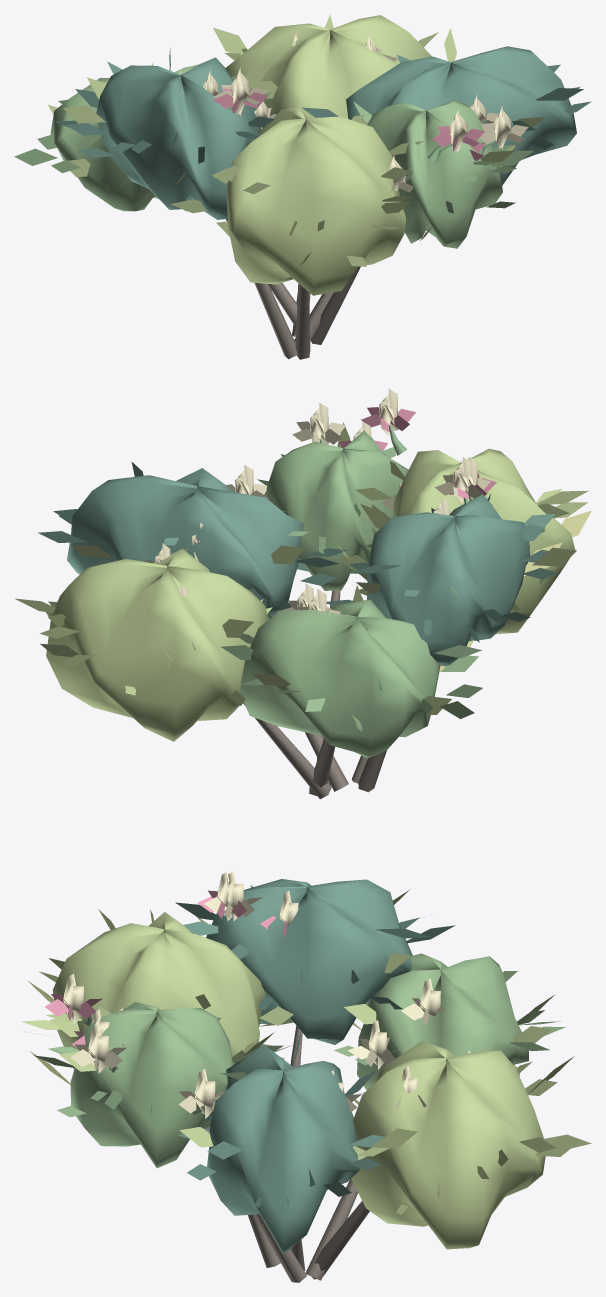
File: bush_flowers.glb
3 views of the same model, one above another, from view 1: azimuth 30°, elevation 25°; view 2: azimuth 150°, elevation 25°; view 3: azimuth 270°, elevation 25° (orthographic). The views are drawn at different scales.
Visible parts, largest first — view 1: bush_flowers; view 2: bush_flowers; view 3: bush_flowers.
Boxes of the visible parts, x1=… form: bush_flowers: x1=14, y1=14, x2=591, y2=359; bush_flowers: x1=15, y1=389, x2=591, y2=799; bush_flowers: x1=22, y1=871, x2=591, y2=1282.
Size of the model in its own units: 2.59 by 1.58 by 2.33.
